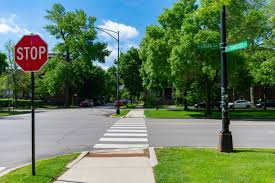stop sign: (14, 34, 48, 72)
